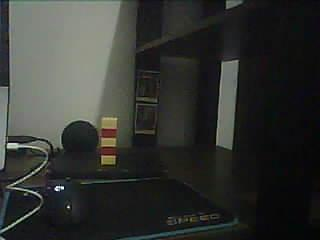lego: (100, 116, 117, 166)
